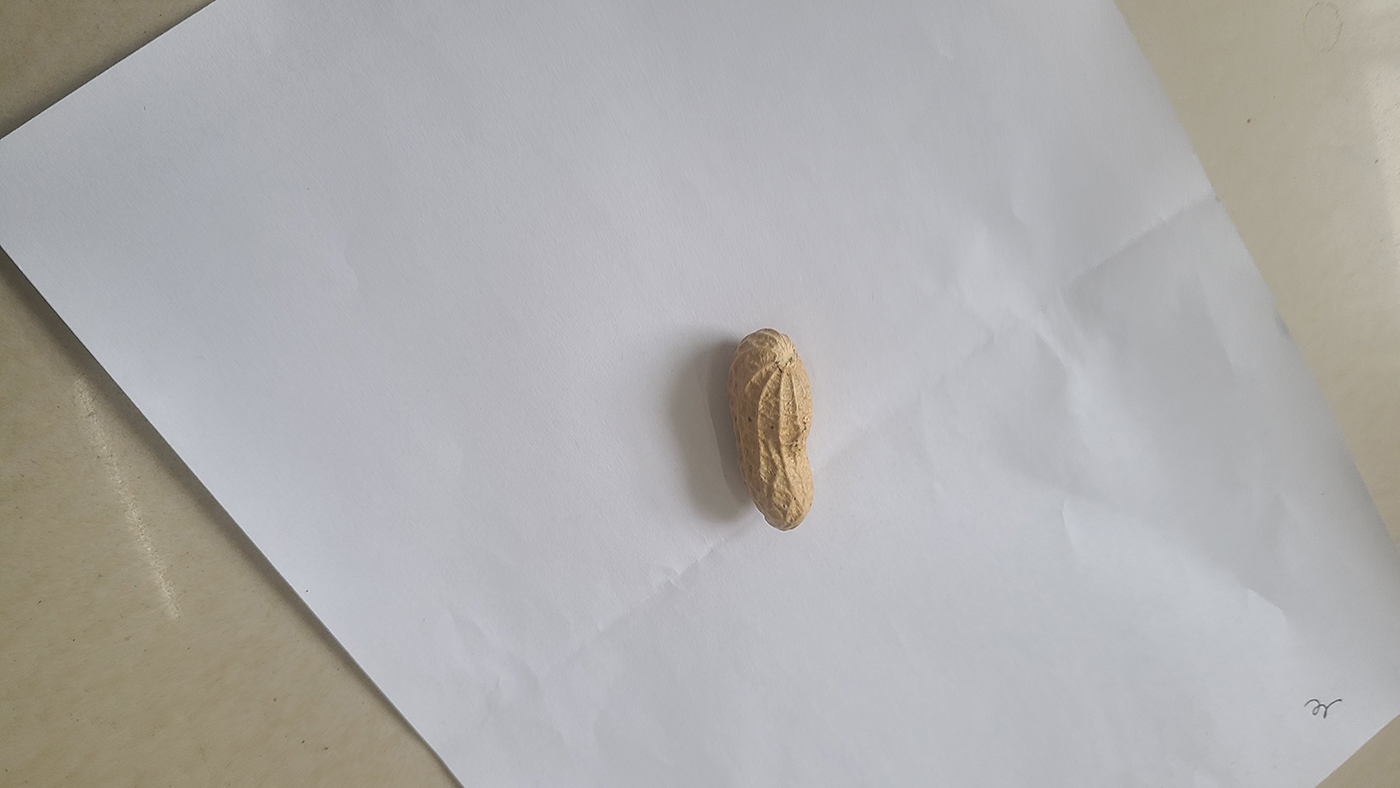h: (727, 328, 816, 531)
